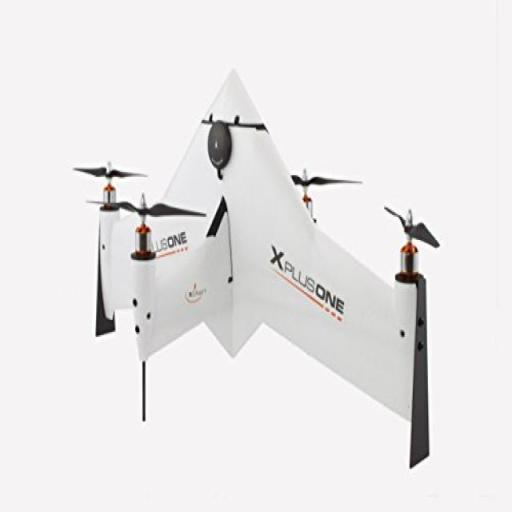uav: (85, 60, 446, 475)
